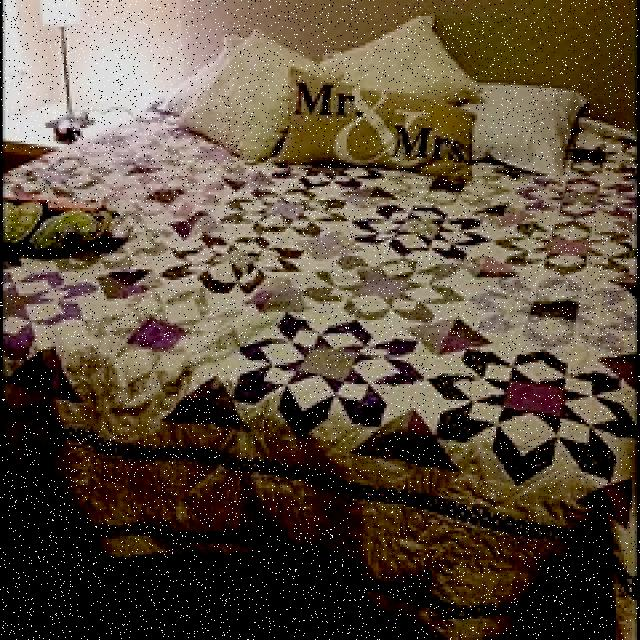bed: (24, 13, 634, 594)
